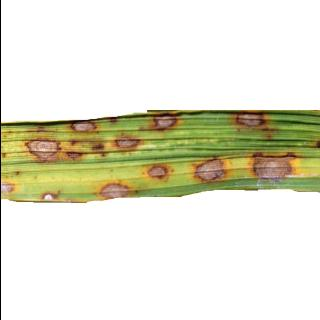bercak-Cokelat: (246, 152, 299, 185), (192, 152, 232, 187), (22, 135, 62, 162), (95, 178, 137, 203), (231, 108, 268, 133), (149, 110, 178, 131), (66, 118, 99, 136), (145, 160, 170, 183), (110, 136, 142, 153), (36, 189, 59, 204), (0, 178, 19, 196)
